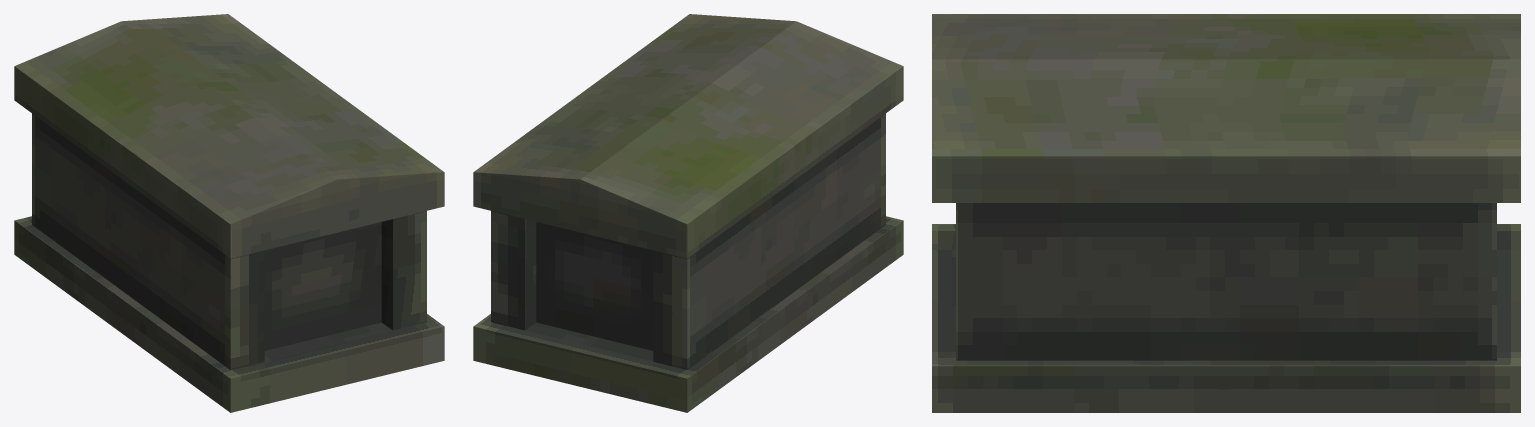
Rendered from item_halloween_tomb.glb.
3 renders of one model, left to right at view 1: azimuth 30°, elevation 25°; view 2: azimuth 150°, elevation 25°; view 3: azimuth 270°, elevation 25°, orthographic. The views are drawn at different scales.
Parts seen in each view (by area): view 1: tomb; view 2: tomb; view 3: tomb.
Boxes of the visible parts, x1,y1,x2,y2 form: tomb: [14, 14, 444, 412]; tomb: [473, 14, 903, 412]; tomb: [932, 14, 1520, 412].
Bounding box in the file's own units: 0.8572 × 0.7939 × 1.5.
1 material, 1 textured.
